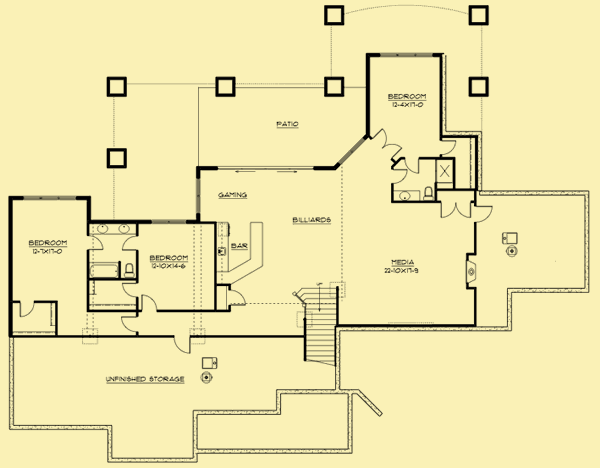door: (374, 127, 402, 158), (440, 201, 473, 220), (173, 335, 193, 355), (227, 287, 246, 308), (85, 233, 104, 251), (477, 204, 494, 224), (18, 299, 35, 319), (404, 155, 422, 173), (118, 314, 136, 332), (138, 294, 157, 311), (120, 234, 138, 251), (441, 139, 457, 158), (392, 168, 410, 184), (122, 281, 138, 297)
large_sink: (120, 262, 137, 279), (421, 186, 435, 200)
small_sink: (87, 223, 137, 235), (392, 190, 419, 201)
stairs: (293, 279, 339, 368)
tub: (88, 262, 119, 278)
windows: (21, 194, 77, 203), (375, 50, 433, 58), (148, 218, 189, 226), (195, 176, 202, 215)
